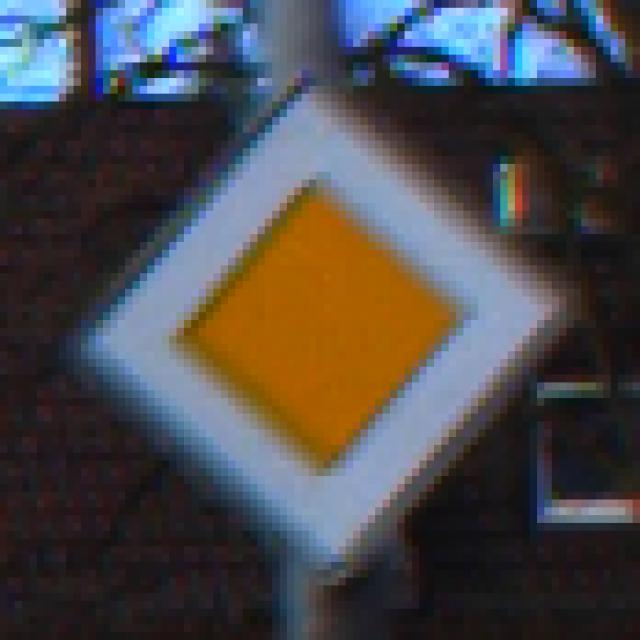Main Road: (53, 56, 590, 586)
